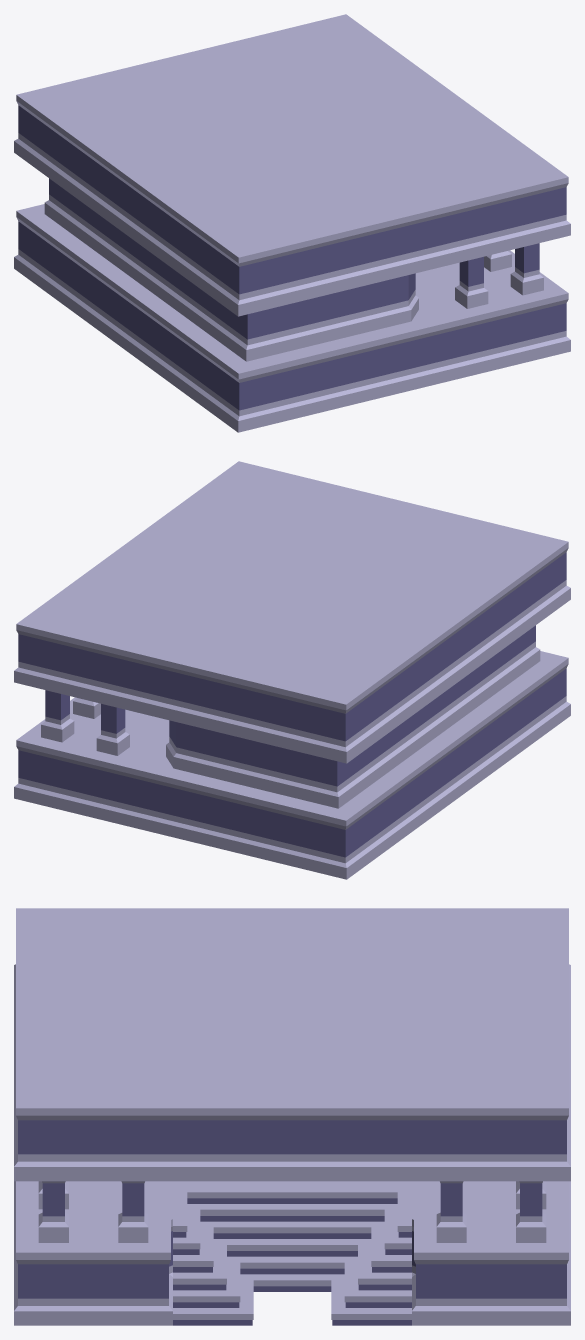
File: loot_room.glb
The picture shows the model from 3 angles, top to bottom: view 1: azimuth 30°, elevation 25°; view 2: azimuth 150°, elevation 25°; view 3: azimuth 270°, elevation 25°; orthographic projection. The views are drawn at different scales.
Parts seen in each view (by area): view 1: mergedBlocks(Clone); view 2: mergedBlocks(Clone); view 3: mergedBlocks(Clone).
Part boxes in pixels (bbox=[...]): mergedBlocks(Clone): bbox=[14, 14, 570, 432]; mergedBlocks(Clone): bbox=[14, 461, 570, 879]; mergedBlocks(Clone): bbox=[14, 908, 570, 1325].
Size of the model in its own units: 6.01 by 3 by 7.
